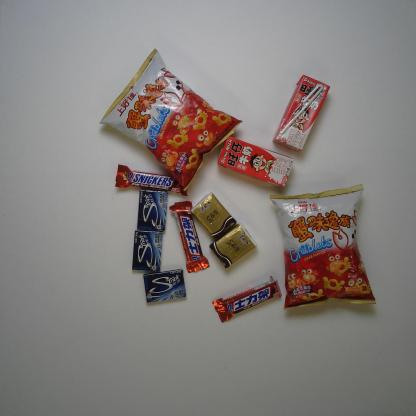Chocolate: (211, 276, 283, 324), (168, 198, 211, 274), (114, 162, 189, 198)
Gum: (142, 268, 187, 304), (136, 186, 170, 233), (132, 230, 164, 271)
Milk: (272, 74, 331, 154), (218, 135, 296, 189)
Puffed Food: (99, 47, 244, 191), (268, 184, 378, 311)
Tissue: (207, 222, 259, 269), (190, 191, 238, 241)
